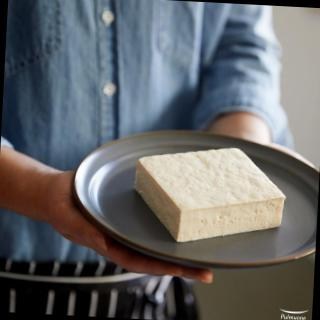Tahu: (121, 141, 302, 256)
